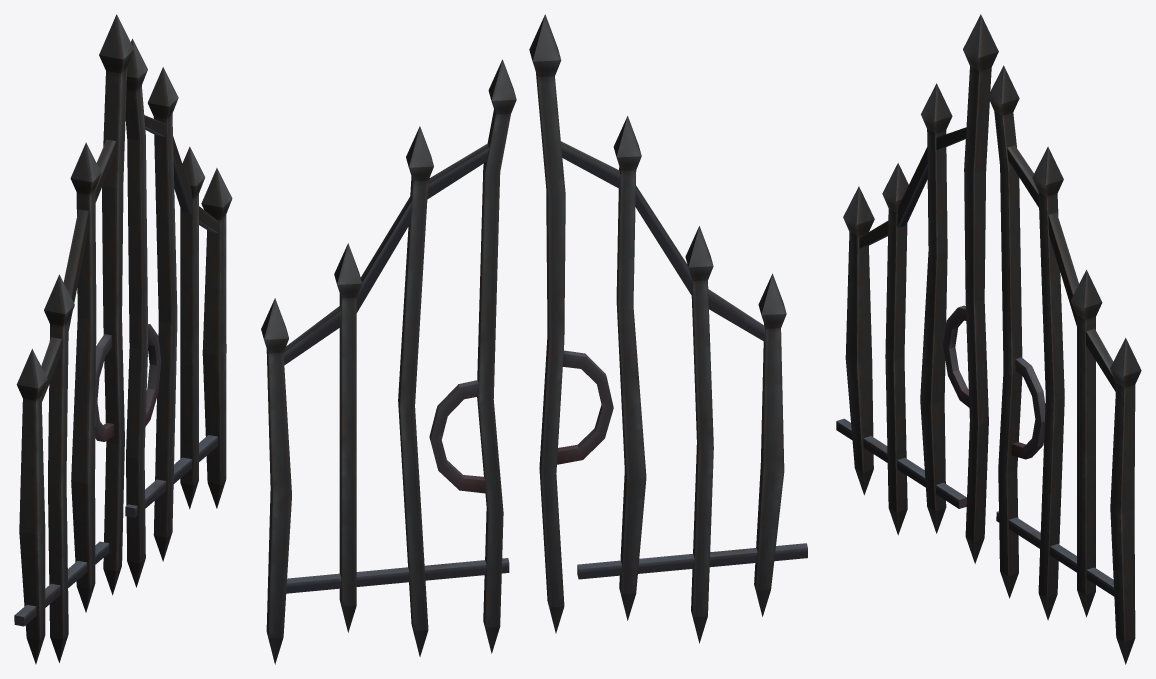
Rendered from Area11_16.fbx.
3 views of the same model, side by side, from view 1: azimuth 30°, elevation 25°; view 2: azimuth 150°, elevation 25°; view 3: azimuth 270°, elevation 25° (orthographic). The views are drawn at different scales.
Parts seen in each view (by area): view 1: Area11_16; view 2: Area11_16; view 3: Area11_16.
Boxes of the visible parts, bbox=[...] form: Area11_16: bbox=[14, 14, 232, 664]; Area11_16: bbox=[261, 14, 807, 664]; Area11_16: bbox=[836, 14, 1141, 664].
Size of the model in its own units: 641 by 1000 by 487.
